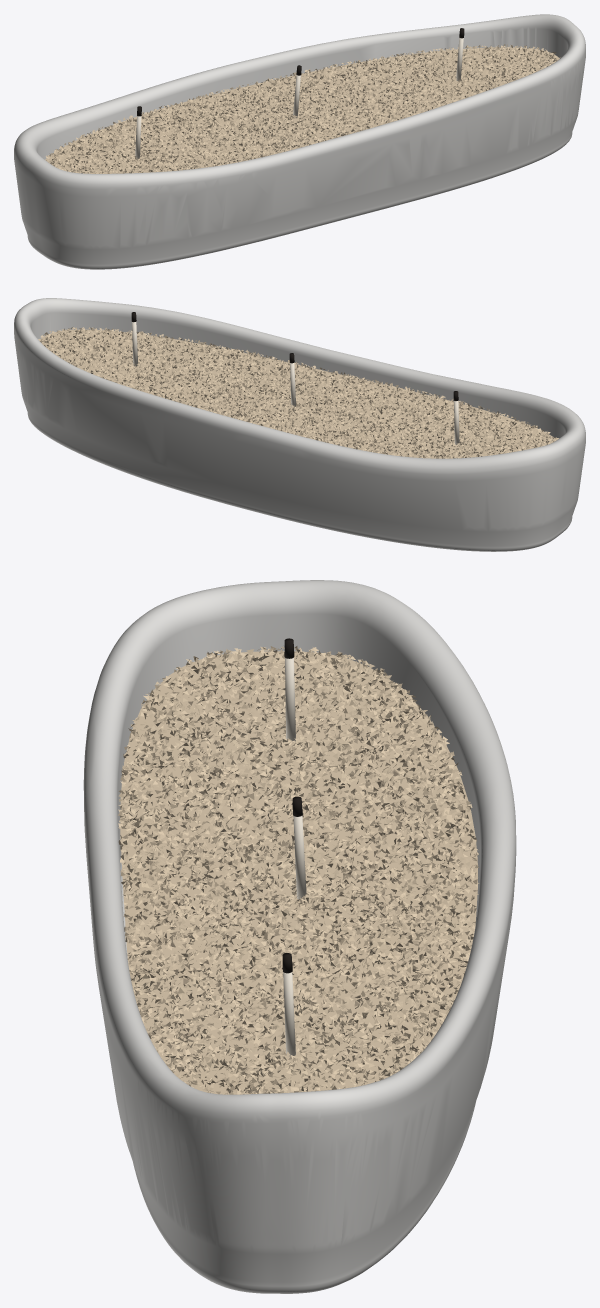
File: canoa.glb
3 renders of one model, top to bottom at view 1: azimuth 30°, elevation 25°; view 2: azimuth 150°, elevation 25°; view 3: azimuth 270°, elevation 25°, orthographic. The views are drawn at different scales.
Visible parts, largest first — view 1: Canoa, Areia, Pavio0; view 2: Canoa, Areia, Pavio0; view 3: Areia, Canoa, Pavio0.
Boxes of the visible parts, x1,y1,x2,y2 form: Canoa: [14, 14, 585, 269]; Areia: [45, 44, 560, 173]; Pavio0: [135, 38, 463, 159]; Canoa: [14, 298, 585, 551]; Areia: [38, 327, 558, 458]; Pavio0: [132, 322, 459, 444]; Areia: [118, 646, 479, 1094]; Canoa: [83, 580, 516, 1293]; Pavio0: [283, 657, 306, 1056].
Size of the model in its own units: 0.2802 by 0.06 by 0.0957.
